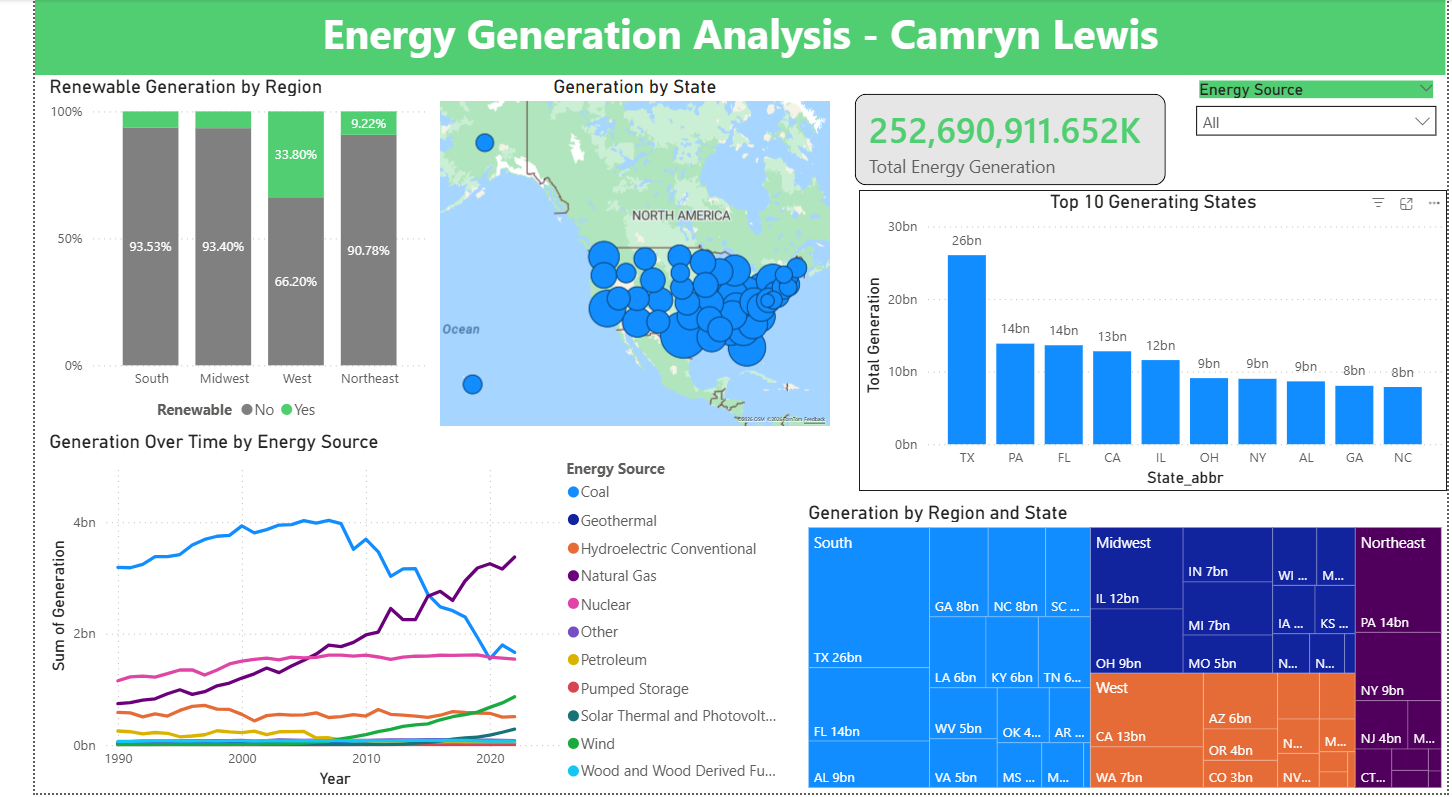

This screenshot's page, from the dashboard's own definition file:
{"tool":"powerbi","page":{"name":"Page 1","canvas":[1280,720],"ordinal":0},"visuals":[{"type":"textbox","box":[0,0,1279.3,68.7],"z":0},{"type":"cardVisual","fields":{"Data":["Sum(Sheet1.Generation)"]},"box":[726.1,68.7,316.5,117.8],"z":1000},{"type":"slicer","fields":{"Values":["Sheet1.Energy Source"]},"box":[1042.6,68.7,238,66.2],"z":2000},{"type":"clusteredColumnChart","title":"Top 10 Generating States","fields":{"Y":["Sum(Sheet1.Generation)"],"Category":["Sheet1.State_abbr"]},"box":[747,172.9,533.6,273.5],"z":3000},{"type":"azureMap","title":"Generation by State","fields":{"Category":["Sheet1.State"],"Size":["Sum(Sheet1.Generation)"]},"box":[361.8,68.7,364.3,322.6],"z":4000},{"type":"hundredPercentStackedColumnChart","title":"Renewable Generation by Region","fields":{"Category":["Sheet1.Region"],"Y":["Sum(Sheet1.Generation)"],"Series":["Sheet1.Renewable"]},"box":[8.6,68.7,353.3,322.6],"z":4001},{"type":"lineChart","title":"Generation Over Time by Energy Source","fields":{"Category":["Sheet1.Year"],"Y":["Sum(Sheet1.Generation)"],"Series":["Sheet1.Energy Source"]},"box":[8.6,391.3,679.5,328.7],"z":4002},{"type":"treemap","title":"Generation by Region and State","fields":{"Group":["Sheet1.Region"],"Details":["Sheet1.State_abbr"],"Values":["Sum(Sheet1.Generation)"]},"box":[696.7,455.1,583.9,264.9],"z":4003}]}

Visuals, with their boxes in screenshot pixels (x1, y1, x2, y2), scaled from the page's 1280x720 canvas onto the 1452x797 screenshot:
textbox: box(0, 0, 1451, 76)
cardVisual - Sum(Sheet1.Generation): box(824, 76, 1183, 206)
slicer - Sheet1.Energy Source: box(1183, 76, 1451, 149)
"Top 10 Generating States" clusteredColumnChart: box(847, 191, 1451, 494)
"Generation by State" azureMap: box(410, 76, 824, 433)
"Renewable Generation by Region" hundredPercentStackedColumnChart: box(10, 76, 411, 433)
"Generation Over Time by Energy Source" lineChart: box(10, 433, 781, 796)
"Generation by Region and State" treemap: box(790, 504, 1451, 796)
